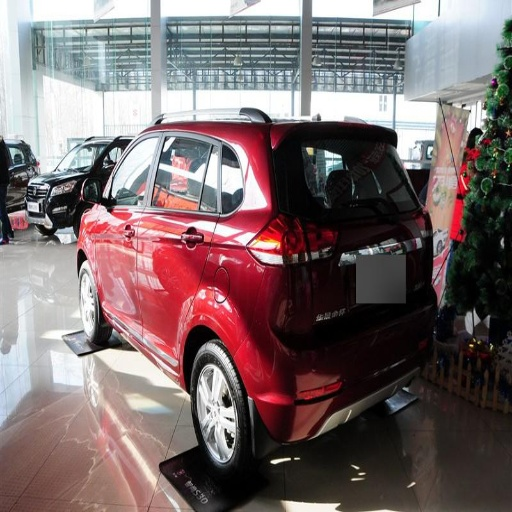back_bumper: (240, 332, 409, 442)
back_glass: (275, 129, 410, 218)
back_left_door: (139, 131, 222, 358)
trunk: (316, 229, 390, 331)
